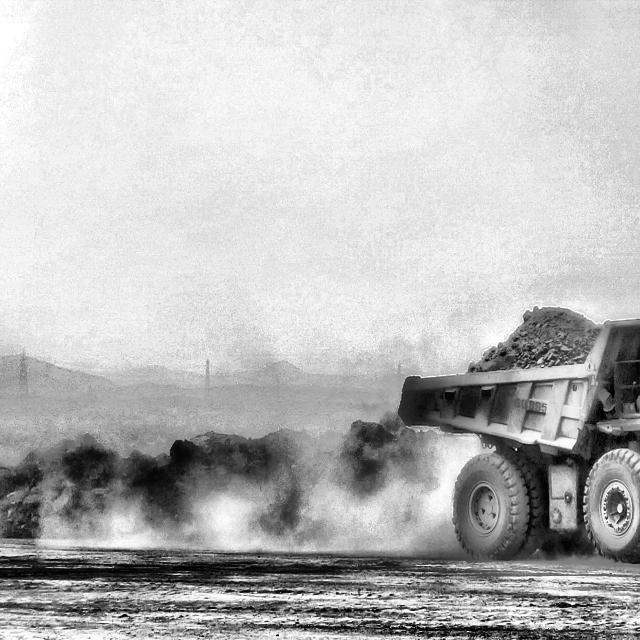dump_truck: (400, 307, 640, 560)
